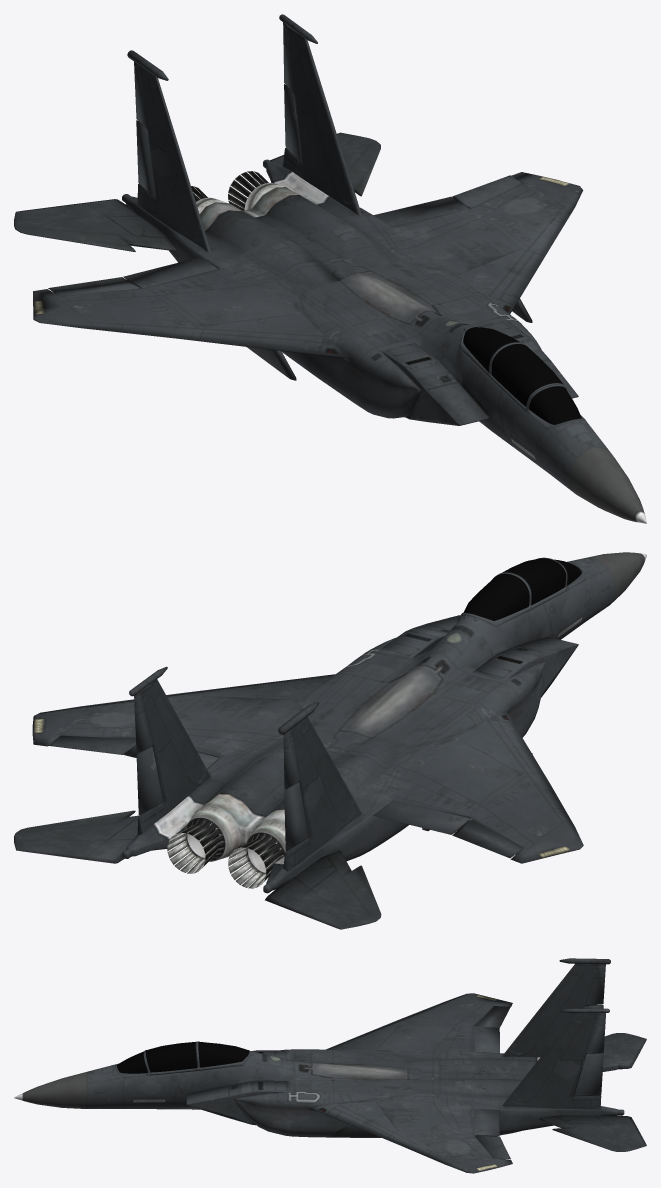
3 views of the same model, one above another, from view 1: azimuth 30°, elevation 25°; view 2: azimuth 150°, elevation 25°; view 3: azimuth 270°, elevation 25° (orthographic). The views are drawn at different scales.
Visible parts, largest first — view 1: F_15K, window; view 2: F_15K, window; view 3: F_15K, window.
Part boxes in pixels (x1,y1,x2,y2): F_15K: (14, 14, 646, 523); window: (463, 327, 581, 424); F_15K: (14, 552, 646, 929); window: (464, 558, 581, 620); F_15K: (14, 958, 646, 1173); window: (117, 1041, 249, 1073).
Size of the model in its own units: 6262 by 2125 by 9302.
Materials: 2 (1 with a texture image).
